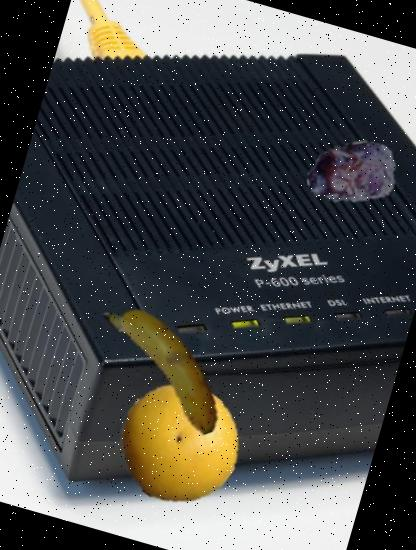Banana: (72, 279, 256, 463)
Dates: (296, 117, 406, 228)
Grapefruit: (104, 370, 252, 518)
